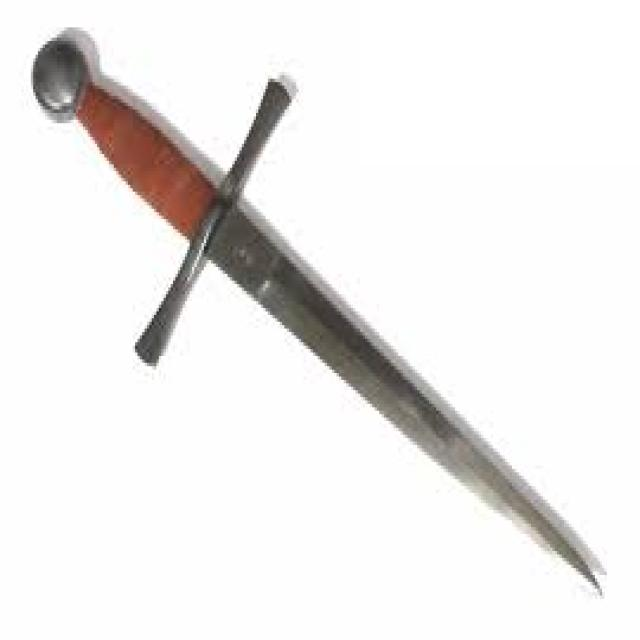Gun: (27, 24, 619, 612)
